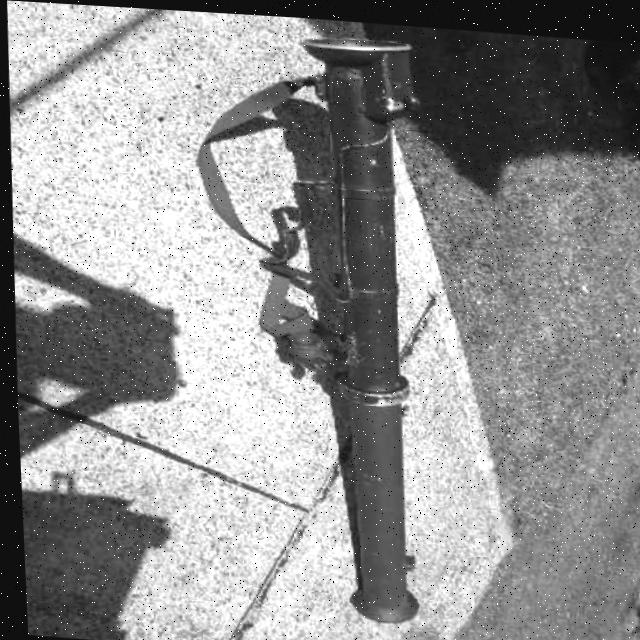rocket: (177, 8, 464, 634)
